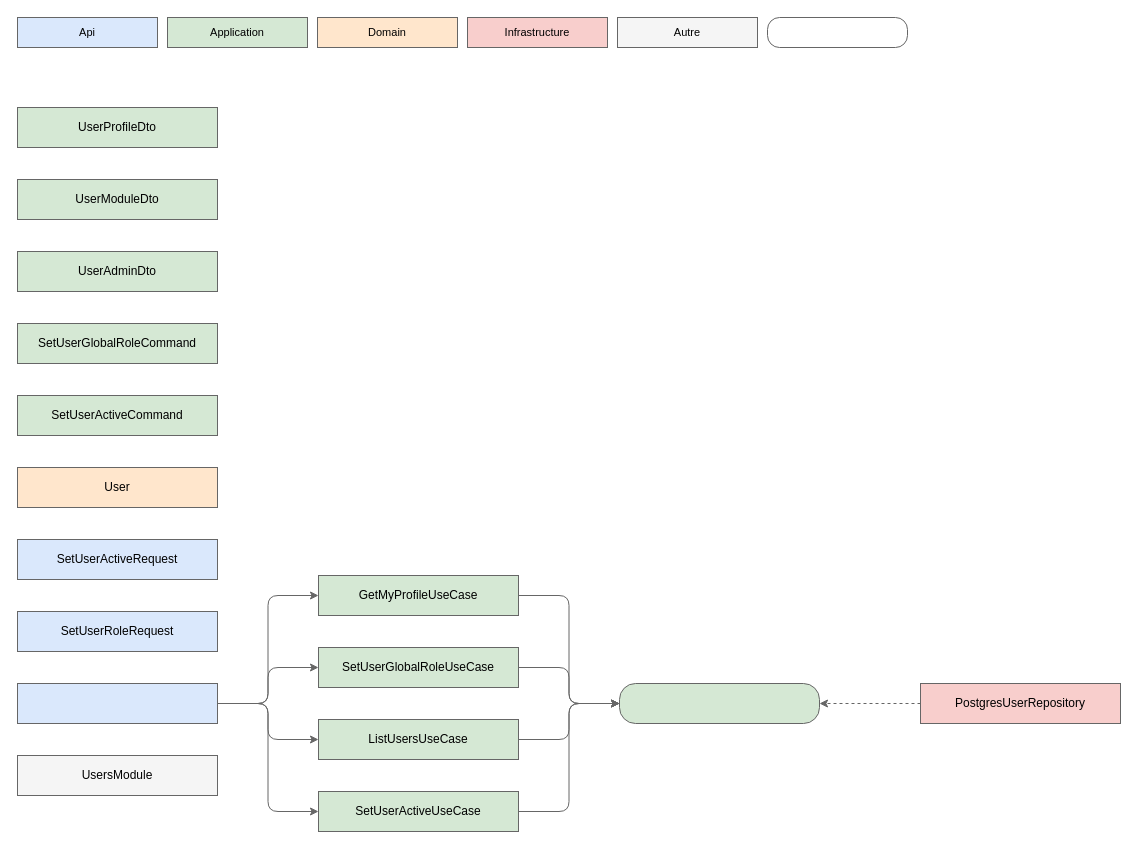
Some shapes in this 1138 by 849 pixel diagram are drawn without their labels. The centre of each missing label's shape, as x and y in pixels:
"IUserRepository" goes at (719,703).
"Port (interface)" goes at (837,32).
"UsersController" goes at (117,703).
